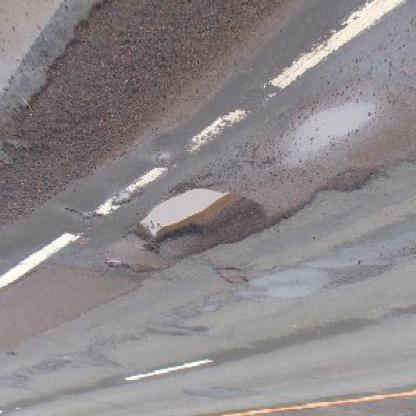pothole: (130, 184, 266, 260), (326, 163, 378, 197), (105, 259, 130, 274)
